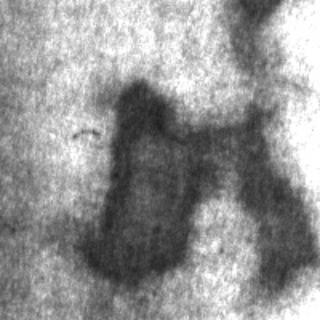patches: (78, 72, 214, 278), (221, 94, 317, 290), (224, 0, 290, 76)
